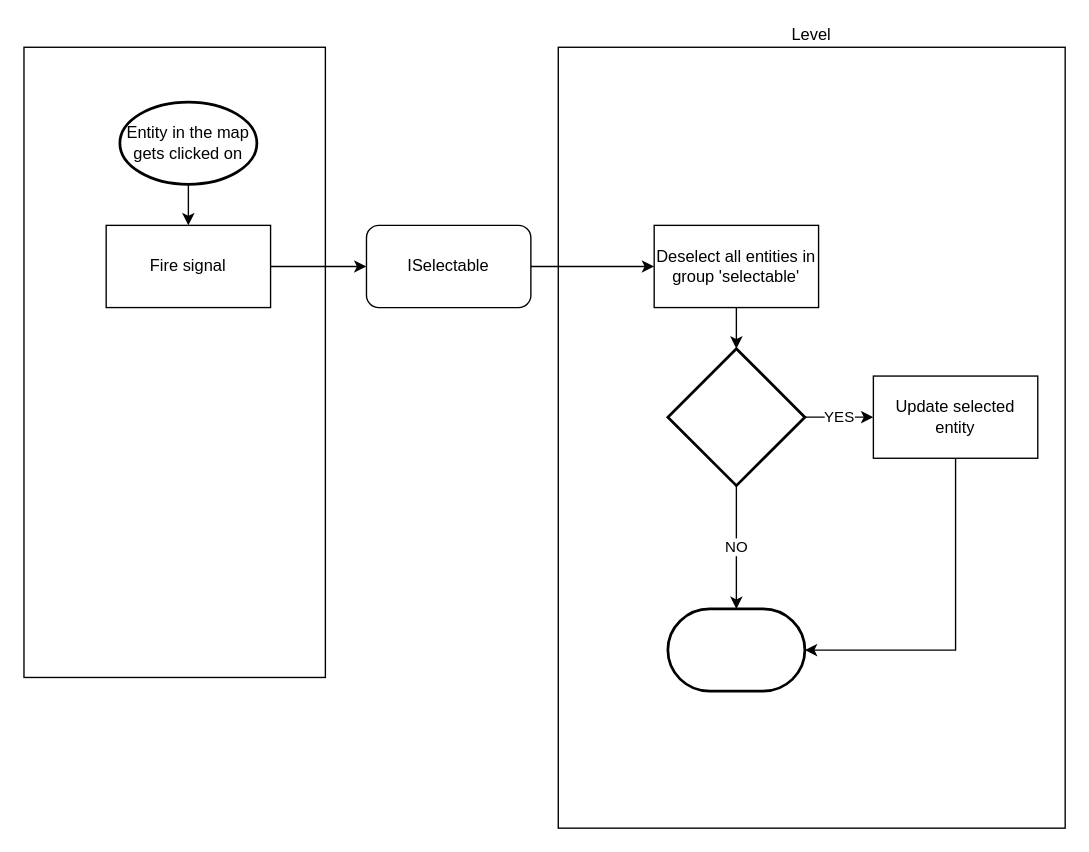
This 1089x852 diagram has some shape labels left out. The shapes that lost their labels are listed below. From the top down, each one's box as (x1, y1, x2, y2) in pixels, then its label:
(23, 46, 325, 677): Selectable entity
(666, 347, 806, 486): Is entity selected?
(666, 607, 806, 692): Done
